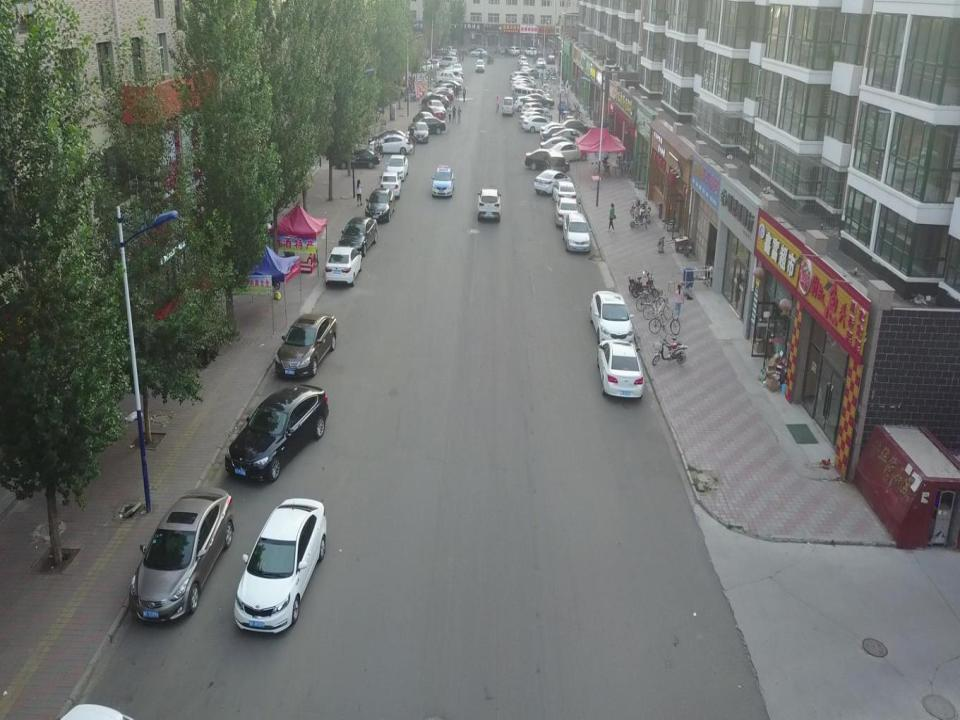car: (128, 486, 234, 625), (234, 498, 328, 633), (224, 385, 330, 484), (274, 312, 336, 378), (597, 339, 645, 400), (588, 290, 635, 348), (338, 215, 378, 258), (324, 245, 363, 287), (562, 211, 591, 253), (364, 187, 396, 223), (534, 168, 572, 196), (524, 149, 570, 172), (547, 141, 589, 164), (368, 134, 413, 155), (476, 187, 502, 223), (335, 149, 380, 169), (555, 197, 581, 228), (431, 164, 455, 197), (369, 129, 410, 148), (522, 114, 558, 134), (410, 116, 446, 136), (379, 170, 402, 200), (539, 136, 577, 154), (385, 154, 409, 182), (551, 128, 583, 149), (552, 181, 576, 204), (558, 119, 590, 136), (519, 111, 551, 127), (542, 125, 572, 142), (421, 94, 449, 112), (418, 105, 444, 124), (520, 102, 549, 119), (540, 122, 570, 138), (412, 111, 437, 128), (412, 121, 430, 143), (515, 95, 538, 112), (522, 98, 546, 114), (426, 99, 446, 117)
van: (544, 150, 566, 178), (502, 96, 514, 116)
